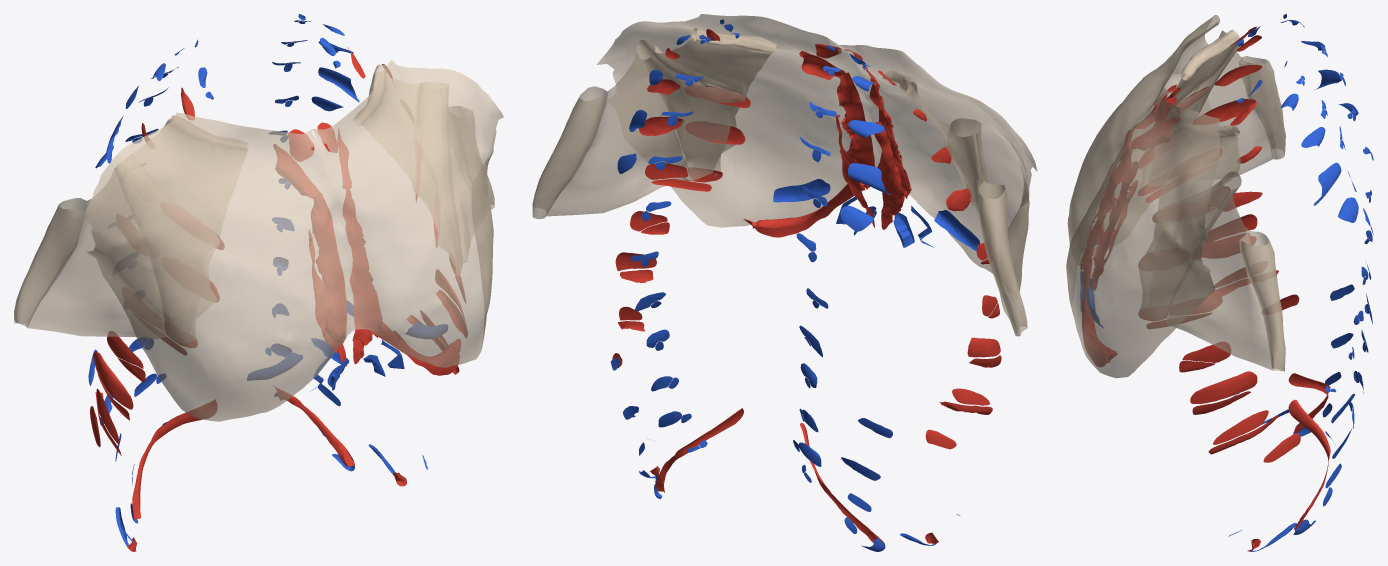
The model's file is muscular.thorax.glb.
3 views of the same model, side by side, from view 1: azimuth 30°, elevation 25°; view 2: azimuth 150°, elevation 25°; view 3: azimuth 270°, elevation 25° (orthographic). The views are drawn at different scales.
Parts seen in each view (by area): view 1: right_pectoral_fascia, left_pectoral_fascia, right_clavipectoral_fascia, left_clavipectoral_fascia, right_sternocostal_head_of_pectoralis_major_muscle_origin_bo, left_sternocostal_head_of_pectoralis_major_muscle_origin_bod, left_sternocostal_head_of_pectoralis_major_muscle_origin_cos, right_diaphragm_origin_twelfth_rib, right_rectus_abdominis_muscle_insertion_costal_cartilage_of_, right_sternocostal_head_of_pectoralis_major_muscle_origin_ma, left_rectus_abdominis_muscle_insertion_costal_cartilage_of_f, right_serratus_anterior_muscle_origin_seventh_rib (+4 smaller); view 2: left_pectoral_fascia, left_clavipectoral_fascia, right_pectoral_fascia, right_clavipectoral_fascia, left_sternocostal_head_of_pectoralis_major_muscle_origin_bod, left_sternocostal_head_of_pectoralis_major_muscle_origin_cos, right_rectus_abdominis_muscle_insertion_costal_cartilage_of_, right_transversus_thoracis_muscle_origin_body_of_sternum, left_rectus_abdominis_muscle_insertion_costal_cartilage_of_f, left_pectoralis_minor_muscle_origin_fourth_rib, right_sternocostal_head_of_pectoralis_major_muscle_origin_bo, left_diaphragm_origin_twelfth_rib (+5 smaller); view 3: left_pectoral_fascia, left_clavipectoral_fascia, right_clavipectoral_fascia, right_pectoral_fascia, left_sternocostal_head_of_pectoralis_major_muscle_origin_bod, left_sternocostal_head_of_pectoralis_major_muscle_origin_cos, left_serratus_anterior_muscle_origin_seventh_rib, left_diaphragm_origin_twelfth_rib, right_transversus_thoracis_muscle_origin_body_of_sternum, right_serratus_anterior_muscle_origin_fourth_rib, left_sternocostal_head_of_pectoralis_major_muscle_origin_man, left_serratus_anterior_muscle_origin_fourth_rib (+12 smaller).
Part boxes in pixels (bbox=[...]): right_pectoral_fascia: bbox=[76, 112, 356, 421]; left_pectoral_fascia: bbox=[312, 60, 503, 367]; right_clavipectoral_fascia: bbox=[14, 115, 248, 343]; left_clavipectoral_fascia: bbox=[353, 64, 494, 275]; right_sternocostal_head_of_pectoralis_major_muscle_origin_bo: bbox=[311, 194, 346, 346]; left_sternocostal_head_of_pectoralis_major_muscle_origin_bod: bbox=[343, 188, 381, 337]; left_sternocostal_head_of_pectoralis_major_muscle_origin_cos: bbox=[378, 322, 460, 375]; right_diaphragm_origin_twelfth_rib: bbox=[132, 399, 217, 519]; right_rectus_abdominis_muscle_insertion_costal_cartilage_of_: bbox=[247, 353, 347, 391]; right_sternocostal_head_of_pectoralis_major_muscle_origin_ma: bbox=[273, 144, 321, 198]; left_rectus_abdominis_muscle_insertion_costal_cartilage_of_f: bbox=[363, 322, 447, 376]; right_serratus_anterior_muscle_origin_seventh_rib: bbox=[93, 352, 133, 409]; left_pectoral_fascia: bbox=[596, 14, 880, 227]; left_clavipectoral_fascia: bbox=[532, 28, 776, 219]; right_pectoral_fascia: bbox=[839, 45, 1037, 290]; right_clavipectoral_fascia: bbox=[882, 70, 1027, 336]; left_sternocostal_head_of_pectoralis_major_muscle_origin_bod: bbox=[836, 72, 874, 189]; left_sternocostal_head_of_pectoralis_major_muscle_origin_cos: bbox=[743, 182, 865, 237]; right_rectus_abdominis_muscle_insertion_costal_cartilage_of_: bbox=[893, 205, 979, 251]; right_transversus_thoracis_muscle_origin_body_of_sternum: bbox=[874, 122, 904, 215]; left_rectus_abdominis_muscle_insertion_costal_cartilage_of_f: bbox=[773, 179, 876, 235]; left_pectoralis_minor_muscle_origin_fourth_rib: bbox=[685, 121, 745, 144]; right_sternocostal_head_of_pectoralis_major_muscle_origin_bo: bbox=[869, 84, 911, 198]; left_diaphragm_origin_twelfth_rib: bbox=[656, 408, 743, 492]; left_pectoral_fascia: bbox=[1066, 93, 1220, 378]; left_clavipectoral_fascia: bbox=[1139, 124, 1285, 371]; right_clavipectoral_fascia: bbox=[1140, 29, 1285, 188]; right_pectoral_fascia: bbox=[1067, 15, 1219, 265]; left_sternocostal_head_of_pectoralis_major_muscle_origin_bod: bbox=[1080, 142, 1132, 268]; left_sternocostal_head_of_pectoralis_major_muscle_origin_cos: bbox=[1081, 263, 1117, 366]; left_serratus_anterior_muscle_origin_seventh_rib: bbox=[1190, 371, 1257, 403]; left_diaphragm_origin_twelfth_rib: bbox=[1288, 399, 1330, 531]; right_transversus_thoracis_muscle_origin_body_of_sternum: bbox=[1093, 161, 1138, 265]; right_serratus_anterior_muscle_origin_fourth_rib: bbox=[1193, 99, 1255, 124]; left_sternocostal_head_of_pectoralis_major_muscle_origin_man: bbox=[1129, 117, 1180, 150]; left_serratus_anterior_muscle_origin_fourth_rib: bbox=[1201, 235, 1256, 258].
Size of the model in its own units: 0.3744 by 0.3579 by 0.2204.
